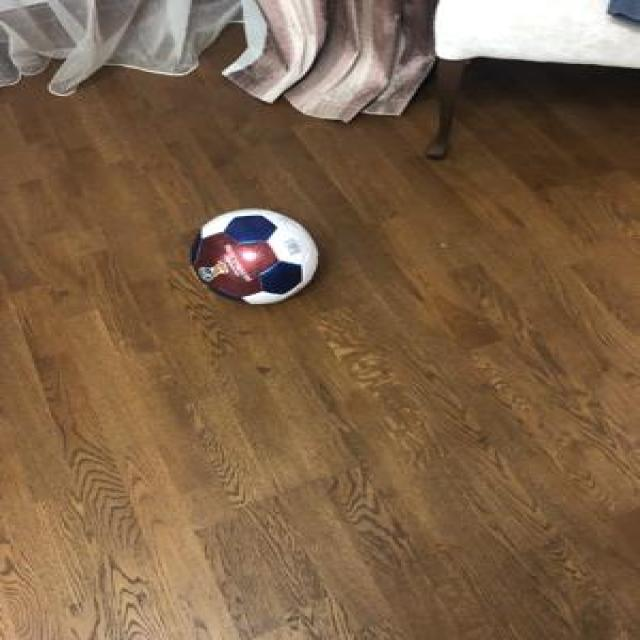Soccer Ball: (188, 206, 316, 304)
